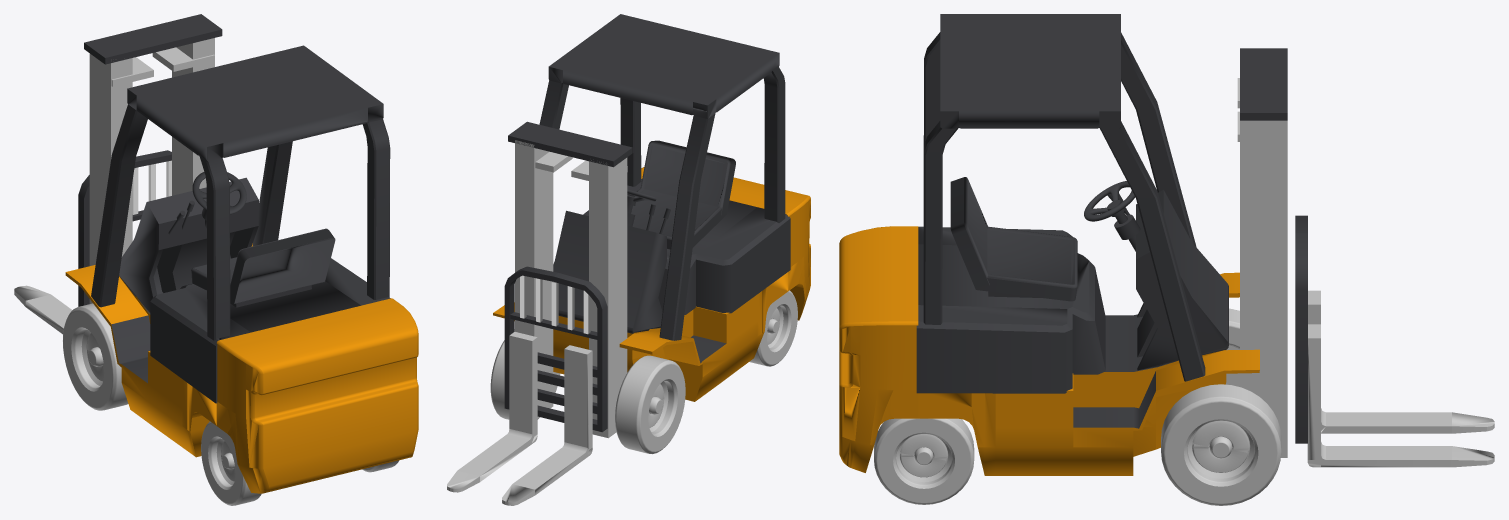
Rendered from Forklift.obj.
The picture shows the model from 3 angles, left to right: view 1: azimuth 30°, elevation 25°; view 2: azimuth 150°, elevation 25°; view 3: azimuth 270°, elevation 25°; orthographic projection. The views are drawn at different scales.
Visible parts, largest first — view 1: Cube, Cube.6, Cube.1, Cube.5, Cube.11_2, Cube.4, Tube_2, Cube_1, Tube_1, Cube.7_1, Cube.11_1, Cube.11 (+4 smaller); view 2: Cube.6, Cube.11_2, Cube, Cube.11, Cube.1, Cube.5, Tube_2, Cube.7_1, Cube.4, Cube_1, Cube.2, Tube_1 (+4 smaller); view 3: Cube, Cube.6, Cube.1, Cube.11_2, Cube.11, Tube_2, Cube.5, Cube.2, Tube_1, Cube_1, Cylinder_2, Cube.4 (+3 smaller).
Part boxes in pixels (left/top/right/bottom): Cube: left=65, top=243, right=418, bottom=493; Cube.6: left=91, top=45, right=390, bottom=340; Cube.1: left=150, top=258, right=390, bottom=403; Cube.5: left=119, top=177, right=258, bottom=312; Cube.11_2: left=89, top=38, right=214, bottom=303; Cube.4: left=230, top=228, right=335, bottom=303; Tube_2: left=63, top=303, right=128, bottom=410; Cube_1: left=84, top=14, right=222, bottom=64; Tube_1: left=201, top=421, right=398, bottom=505; Cube.7_1: left=78, top=150, right=171, bottom=306; Cube.11_1: left=111, top=47, right=214, bottom=86; Cube.11: left=14, top=285, right=72, bottom=334; Cube.6: left=539, top=14, right=785, bottom=340; Cube.11_2: left=515, top=140, right=627, bottom=438; Cube: left=493, top=167, right=810, bottom=401; Cube.11: left=447, top=332, right=592, bottom=505; Cube.1: left=583, top=179, right=790, bottom=314; Cube.5: left=553, top=210, right=666, bottom=333; Tube_2: left=490, top=329, right=685, bottom=454; Cube.7_1: left=504, top=266, right=607, bottom=432; Cube.4: left=640, top=140, right=735, bottom=215; Cube_1: left=508, top=121, right=632, bottom=167; Cube.2: left=631, top=187, right=725, bottom=249; Tube_1: left=749, top=290, right=797, bottom=366; Cube: left=839, top=226, right=1259, bottom=475; Cube.6: left=923, top=14, right=1205, bottom=381; Cube.1: left=916, top=226, right=1105, bottom=393; Cube.11_2: left=1240, top=120, right=1287, bottom=457; Cube.11: left=1307, top=290, right=1494, bottom=467; Tube_2: left=1161, top=308, right=1281, bottom=505; Cube.5: left=1136, top=190, right=1228, bottom=370; Cube.2: left=977, top=226, right=1077, bottom=301; Tube_1: left=874, top=418, right=974, bottom=504; Cube_1: left=1240, top=48, right=1287, bottom=120; Cylinder_2: left=1187, top=345, right=1254, bottom=478; Cube.4: left=950, top=177, right=989, bottom=289.
Bounding box in the file's own units: 274 × 514 × 765.
